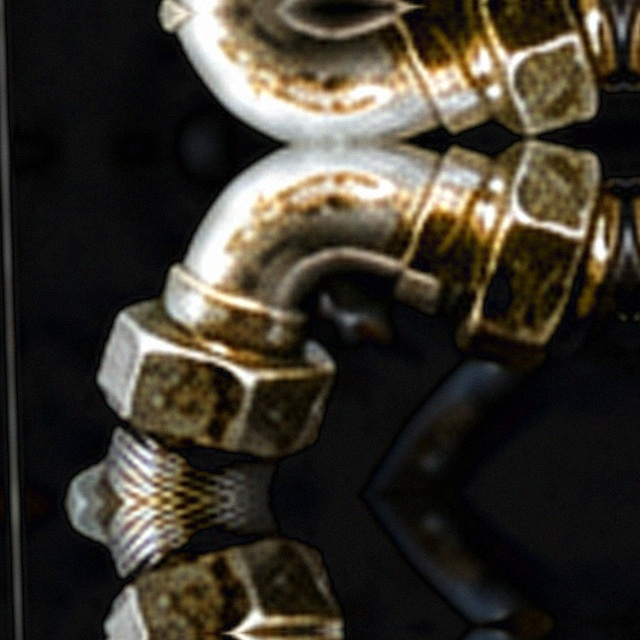hydraulic_oil_leak: (223, 191, 445, 453)
